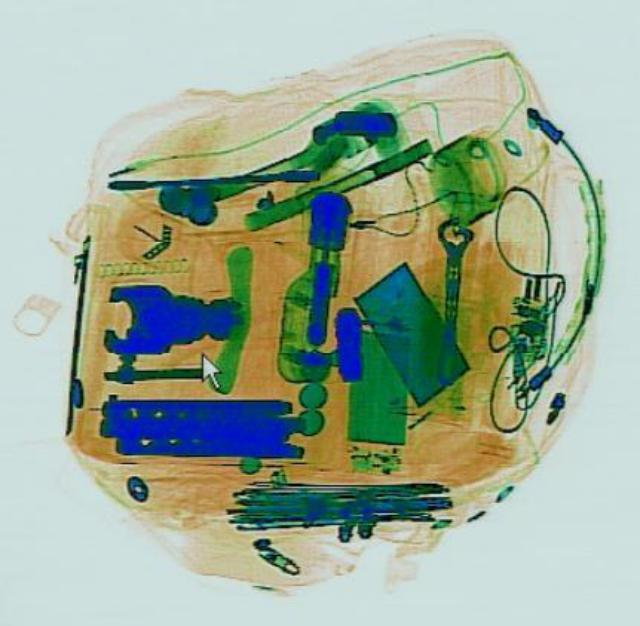Wrench: (422, 213, 474, 383)
